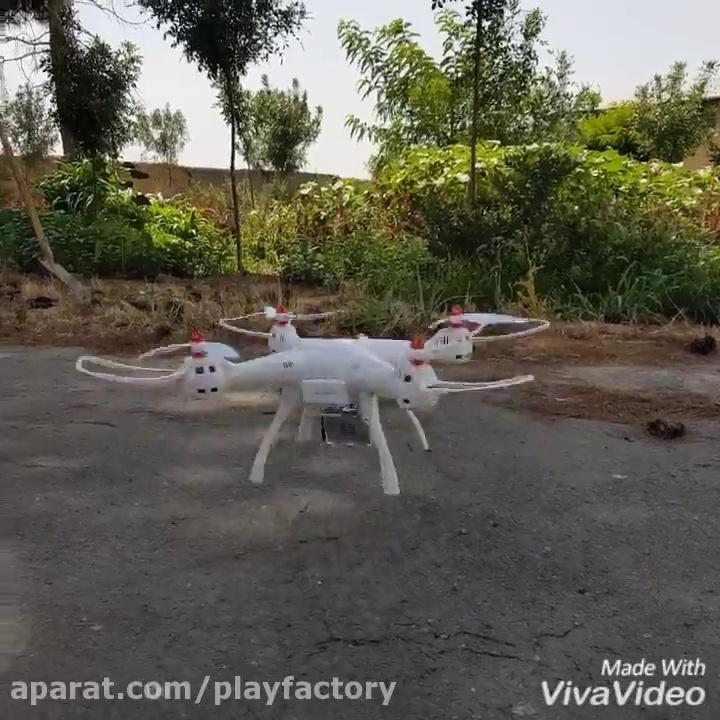drone: (74, 302, 553, 496)
